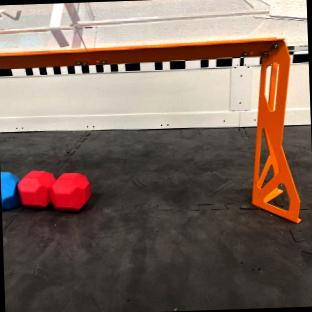V5_BLUE: (0, 172, 19, 210)
V5_RED: (14, 169, 91, 213)
